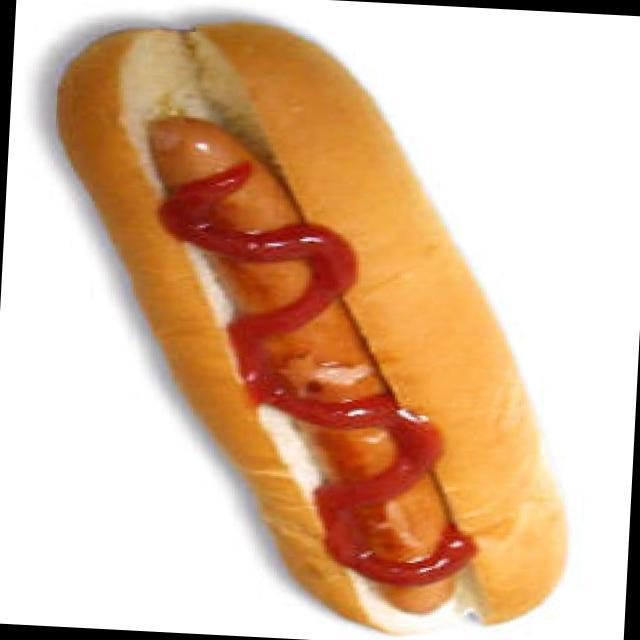Hot Dog: (24, 13, 581, 640)
